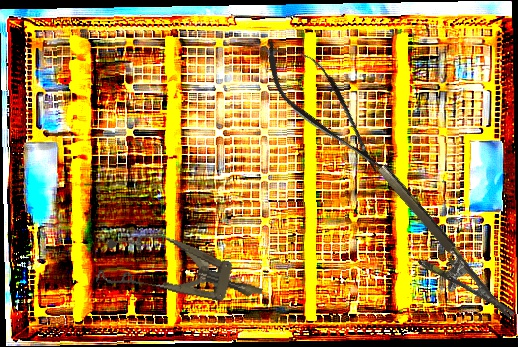Micro Scissor: (249, 26, 400, 188)
Needle Holder: (356, 161, 515, 341)
Speculum: (95, 222, 270, 322)
